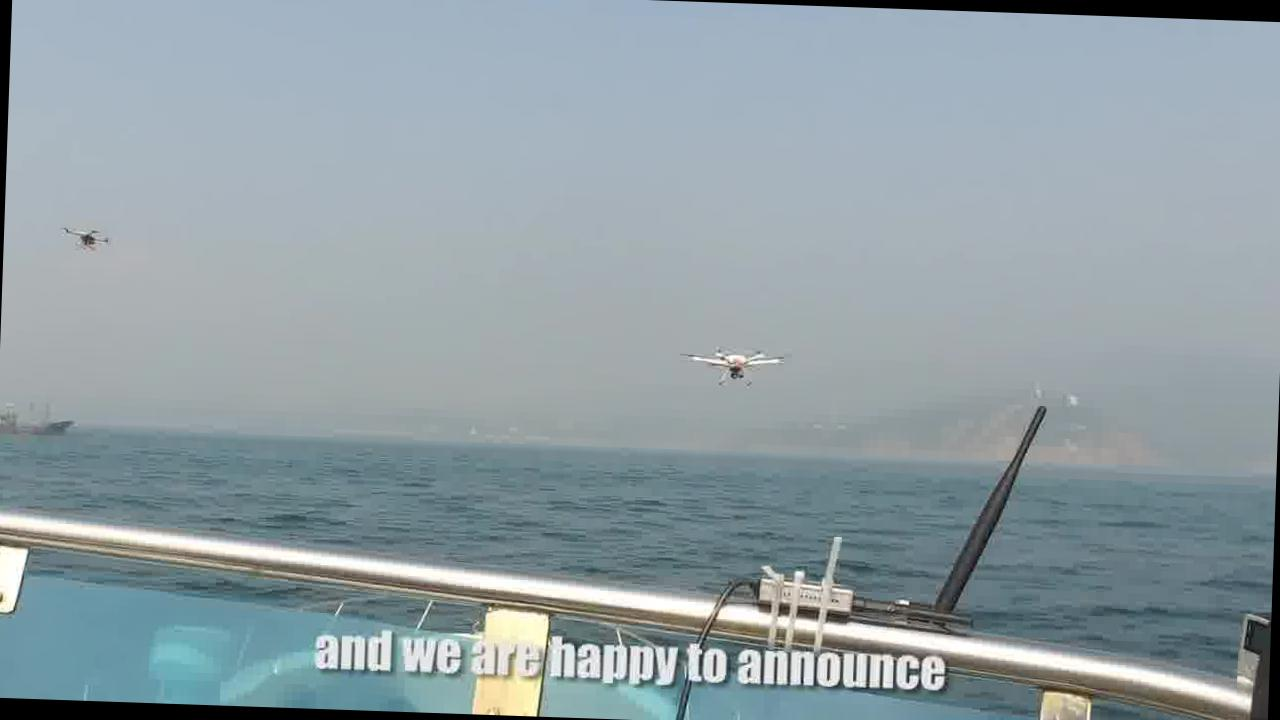drone: (679, 338, 789, 393), (58, 222, 106, 252)
